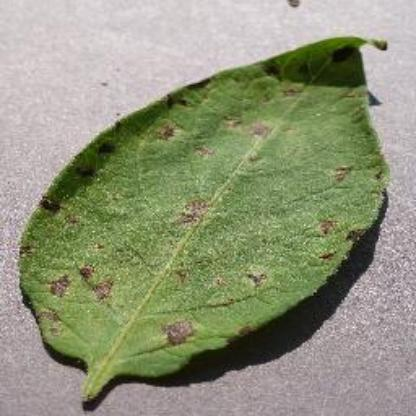Early-Blight: (17, 28, 393, 408)
